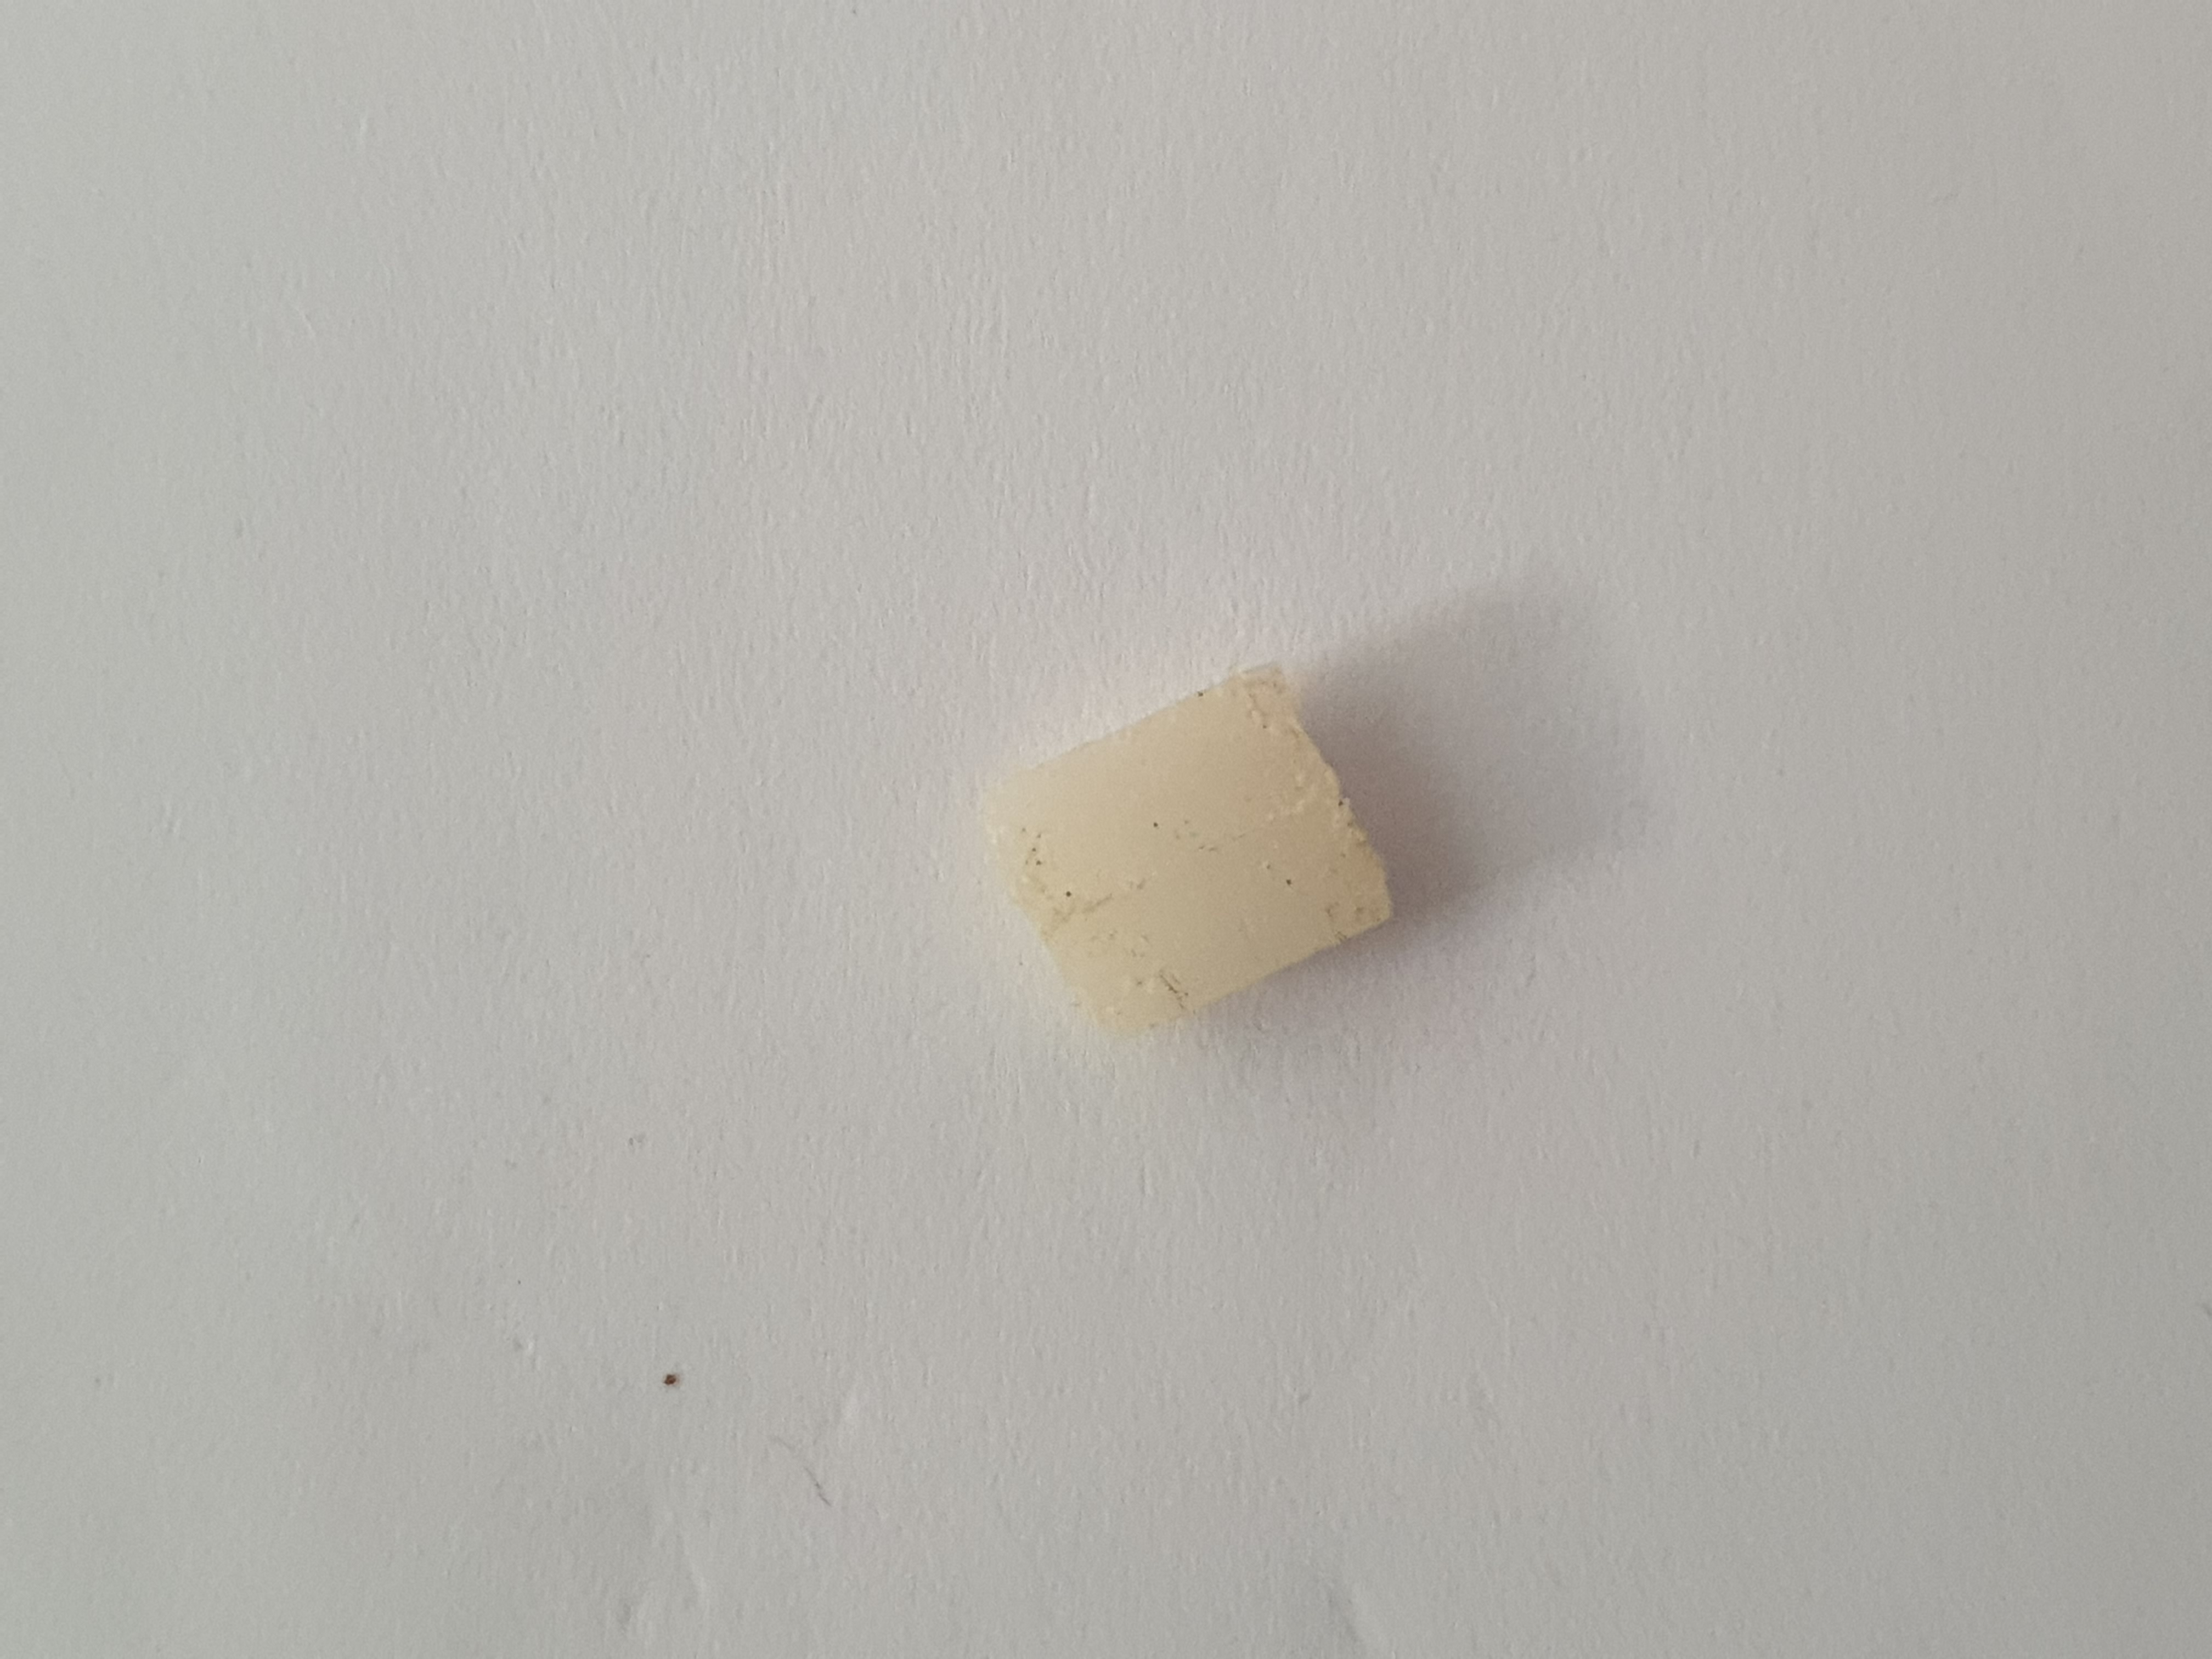plastic: (963, 647, 1430, 1049)
